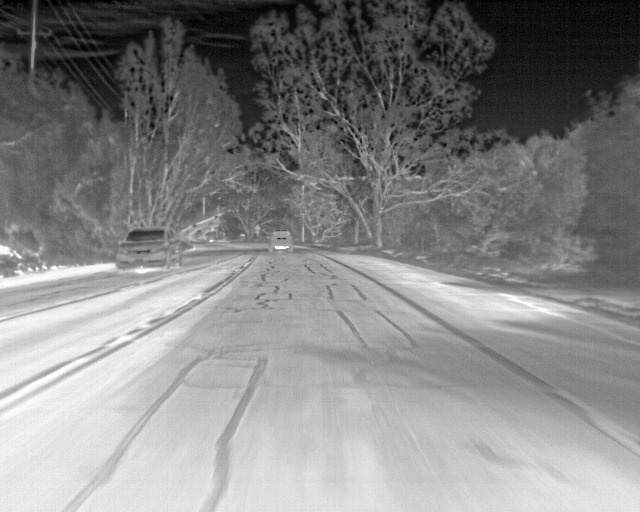vehicle: (117, 228, 185, 271), (269, 229, 293, 249)
